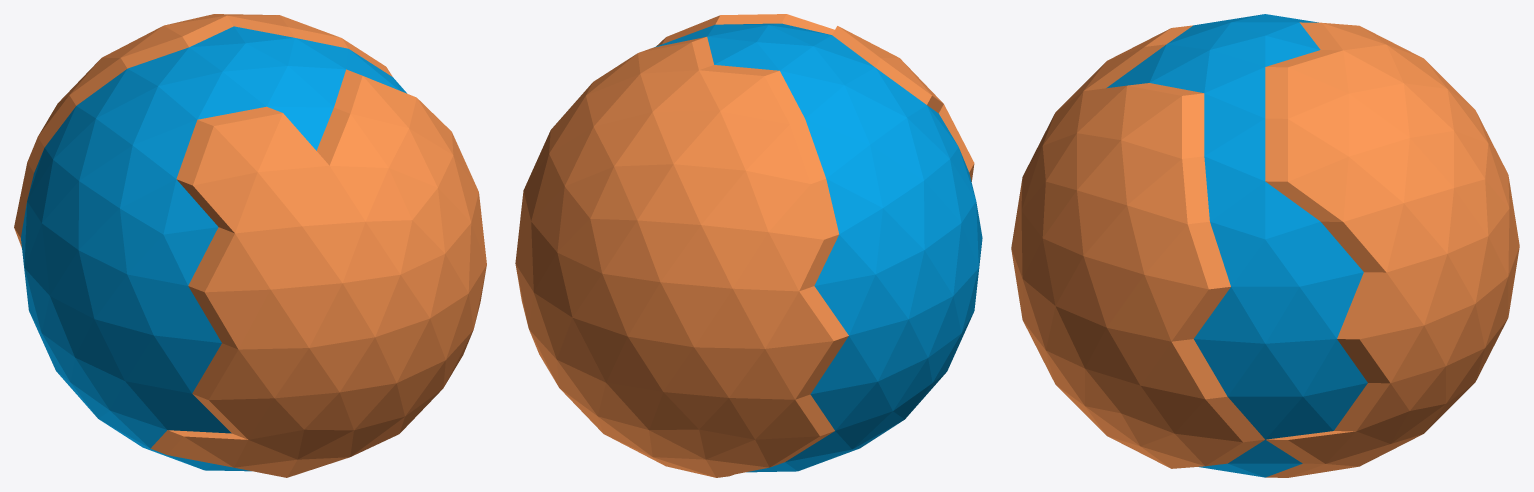
File: Planet2.fbx
The picture shows the model from 3 angles, left to right: view 1: azimuth 30°, elevation 25°; view 2: azimuth 150°, elevation 25°; view 3: azimuth 270°, elevation 25°; orthographic projection. The views are drawn at different scales.
Visible parts, largest first — view 1: Icosphere.001; view 2: Icosphere.001; view 3: Icosphere.001.
Boxes of the visible parts, bbox=[...] form: Icosphere.001: bbox=[14, 14, 486, 477]; Icosphere.001: bbox=[515, 14, 982, 477]; Icosphere.001: bbox=[1011, 14, 1519, 477].
Bounding box in the file's own units: 200 × 200 × 219.
Materials: 1 (1 with a texture image).
